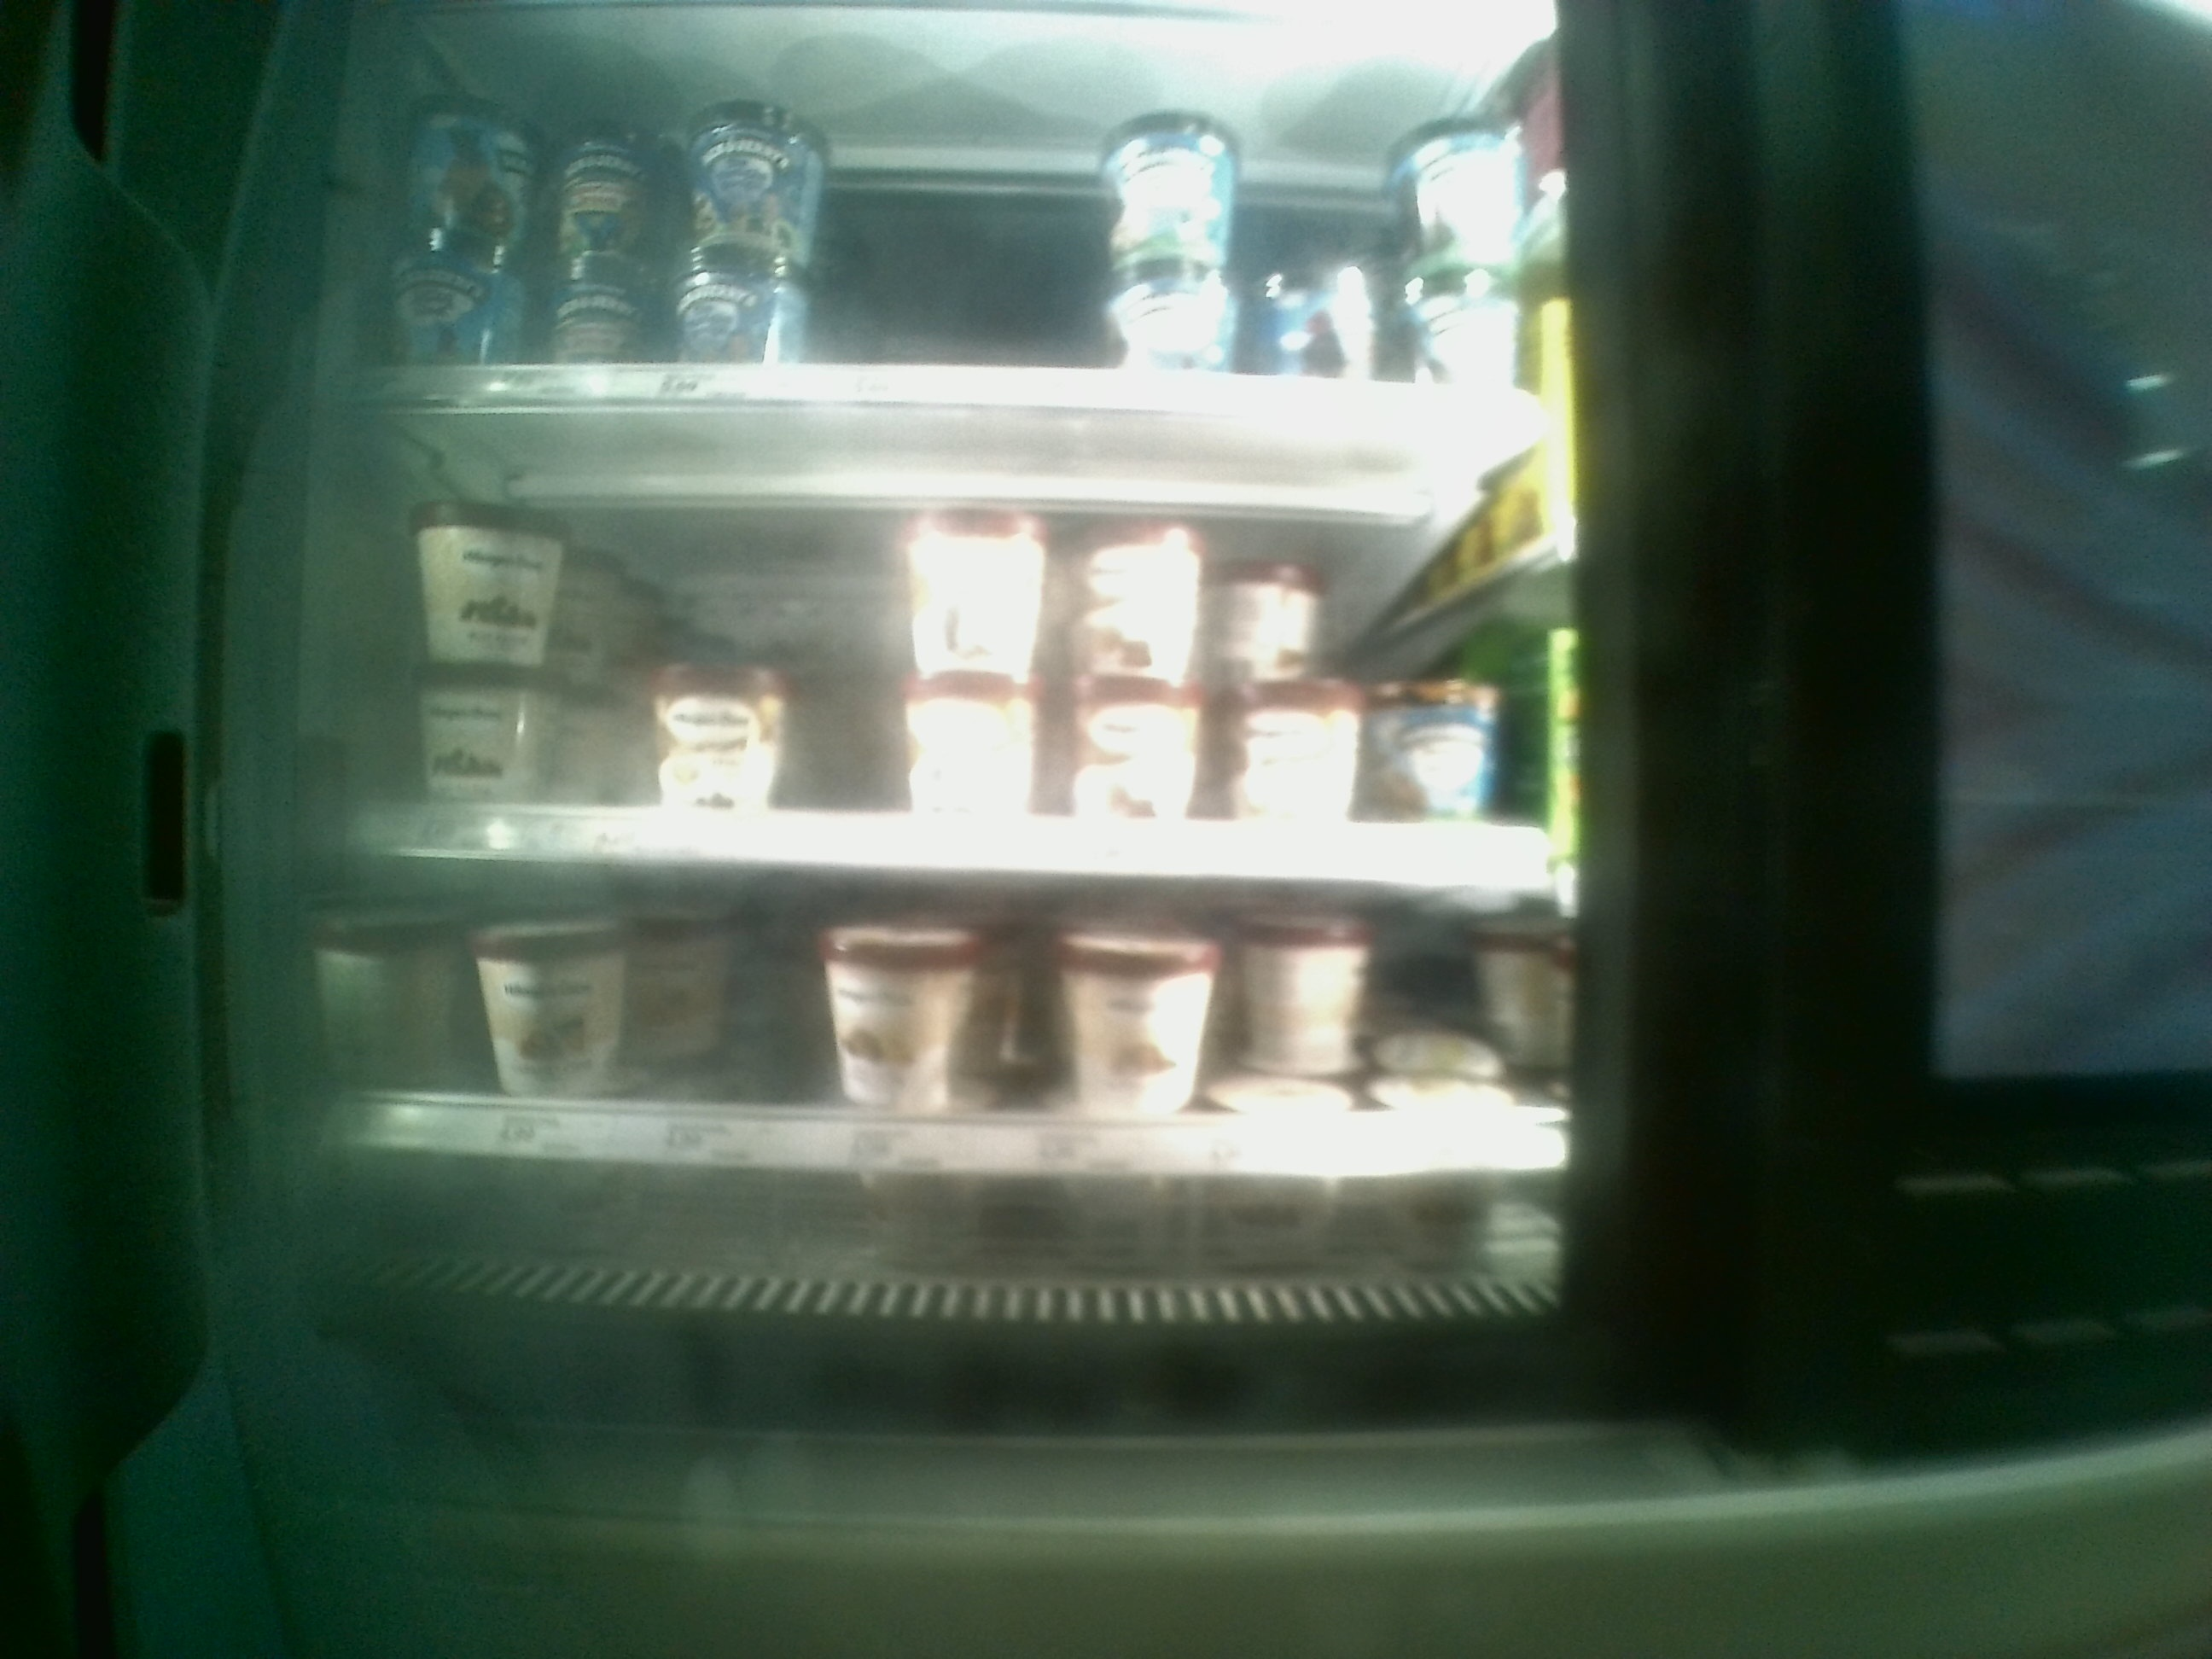shelf: (336, 396, 1599, 871), (336, 871, 1581, 1298)
